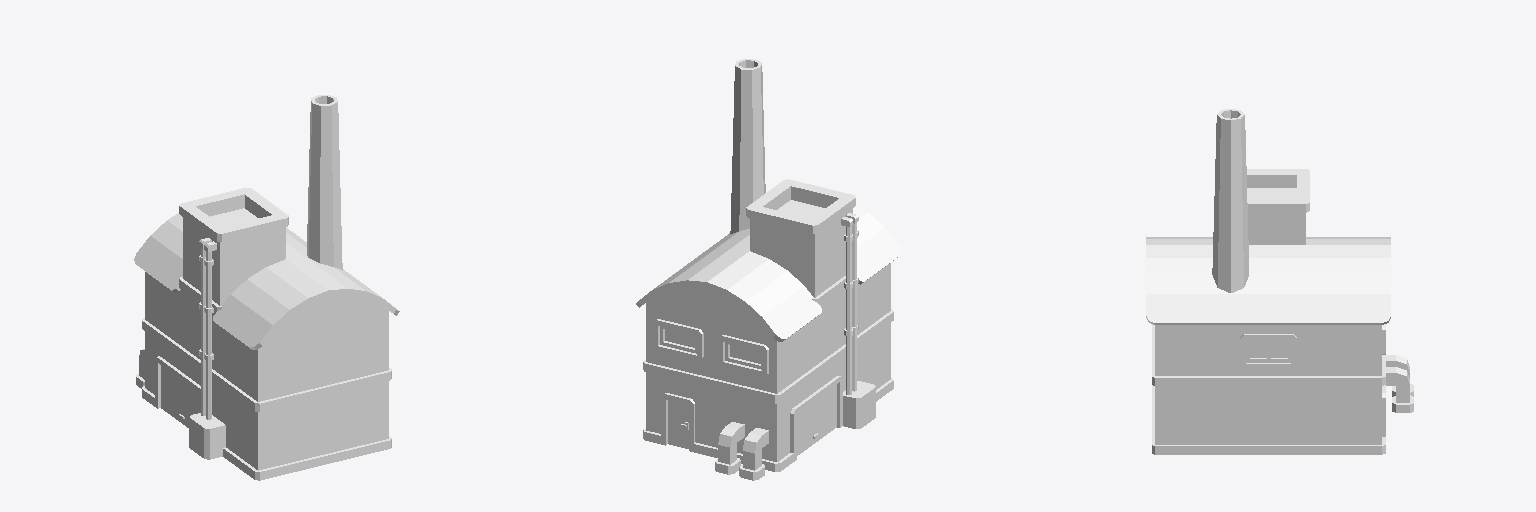
File: industrial_building-n.obj
3 renders of one model, left to right at view 1: azimuth 30°, elevation 25°; view 2: azimuth 150°, elevation 25°; view 3: azimuth 270°, elevation 25°, orthographic.
Visible parts, largest first — view 1: building-n; view 2: building-n; view 3: building-n.
Boxes of the visible parts, x1,y1,x2,y2 form: building-n: [134, 95, 399, 480]; building-n: [636, 59, 900, 480]; building-n: [1146, 109, 1413, 454].
Bounding box in the file's own units: 0.9766 × 1.9 × 1.42.